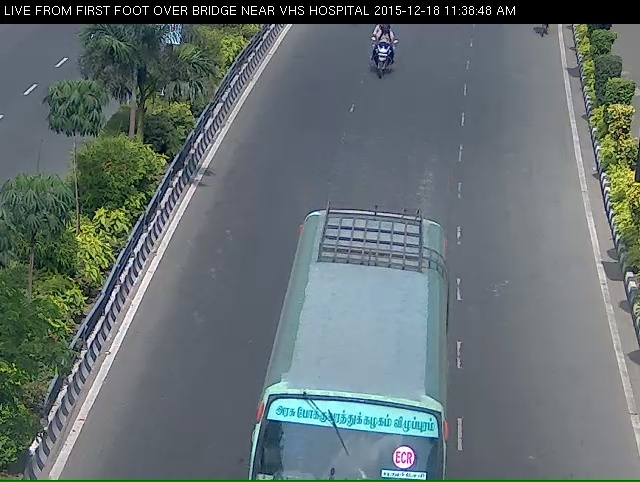Bus: (268, 227, 461, 482)
Person: (358, 28, 398, 87)
